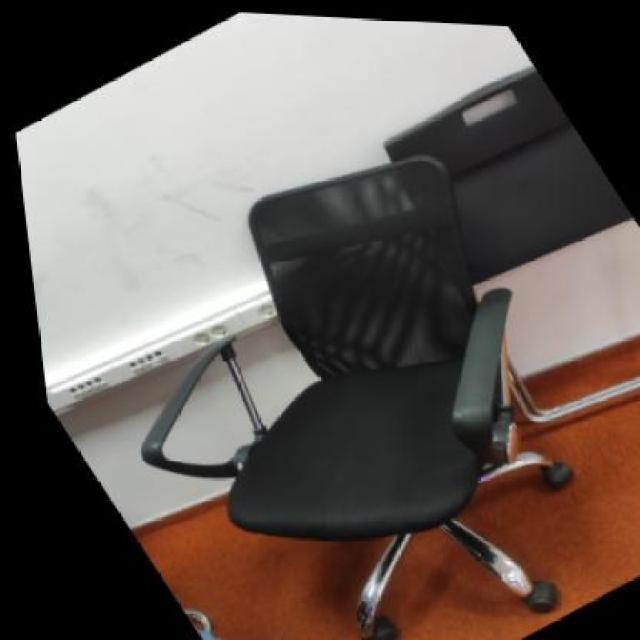chair: (6, 66, 639, 639)
